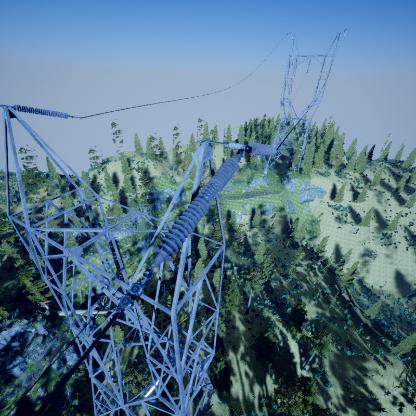insulator: (147, 155, 241, 272), (11, 102, 73, 123)
tower: (263, 22, 351, 188)
